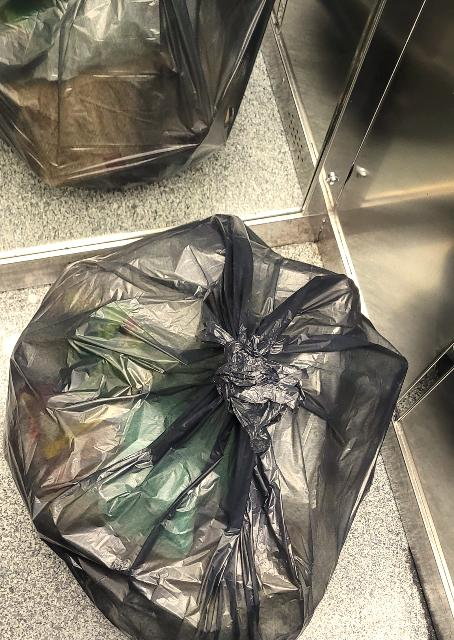Plastik: (6, 214, 421, 640), (0, 0, 278, 194)
